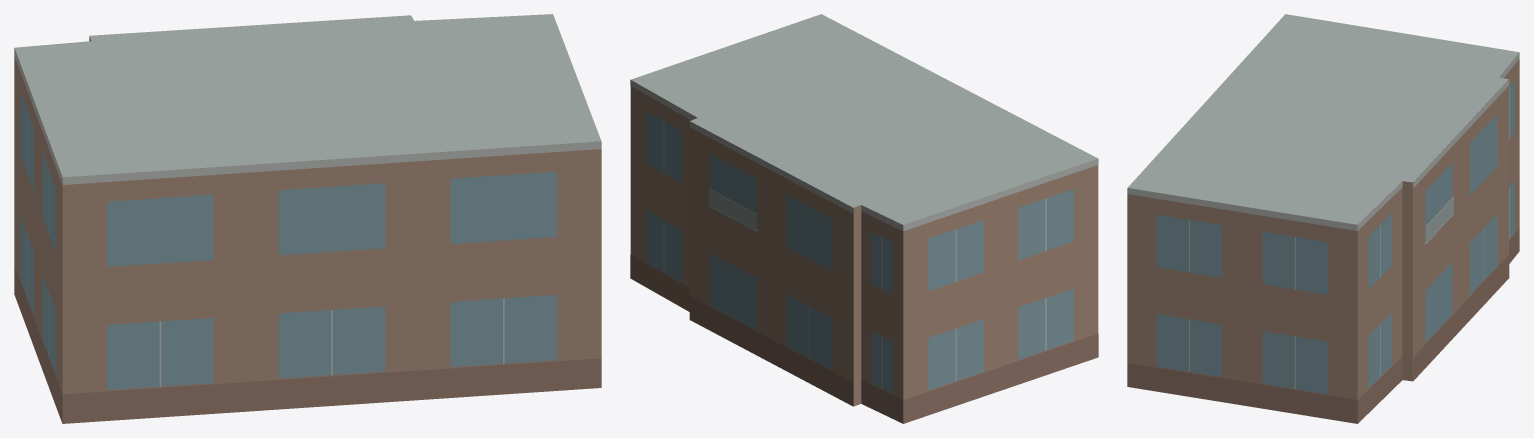
File: survey-upis-33014992.glb
The picture shows the model from 3 angles, left to right: view 1: azimuth 30°, elevation 25°; view 2: azimuth 150°, elevation 25°; view 3: azimuth 270°, elevation 25°; orthographic projection. The views are drawn at different scales.
Visible parts, largest first — view 1: survey-upis-33014992.tmp; view 2: survey-upis-33014992.tmp; view 3: survey-upis-33014992.tmp.
Part boxes in pixels (x1,y1,x2,y2): survey-upis-33014992.tmp: [14, 14, 601, 423]; survey-upis-33014992.tmp: [630, 14, 1098, 423]; survey-upis-33014992.tmp: [1127, 14, 1519, 423].
Size of the model in its own units: 17.85 by 7.85 by 14.03.
